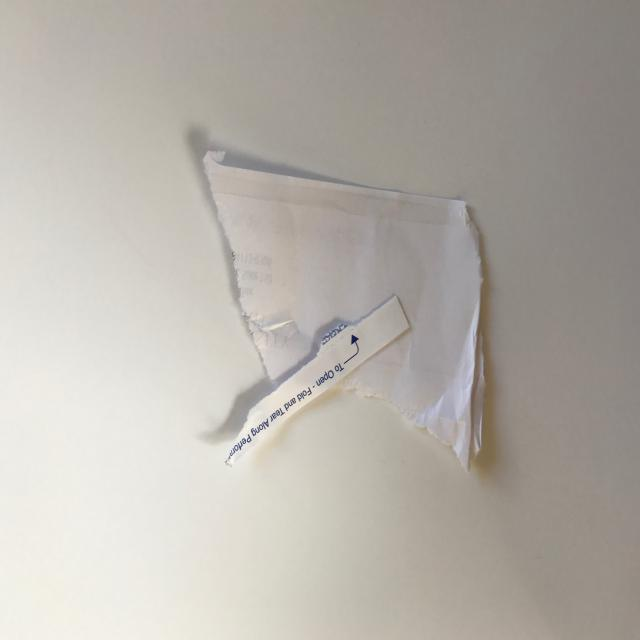paper: (0, 28, 640, 603)
